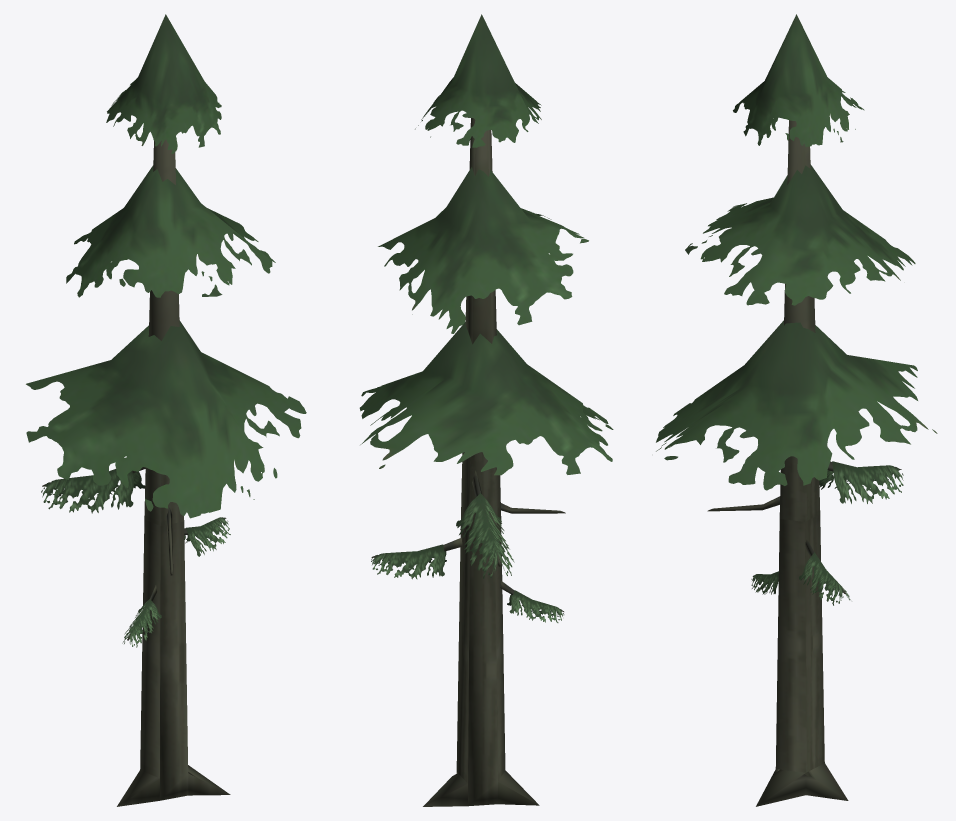
File: Tree L.glb
3 views of the same model, side by side, from view 1: azimuth 30°, elevation 25°; view 2: azimuth 150°, elevation 25°; view 3: azimuth 270°, elevation 25° (orthographic).
Visible parts, largest first — view 1: Branch.002; view 2: Branch.002; view 3: Branch.002.
Boxes of the visible parts, left/top/right/bottom form: Branch.002: left=26, top=14, right=306, bottom=806; Branch.002: left=359, top=14, right=613, bottom=806; Branch.002: left=656, top=14, right=937, bottom=806.
Size of the model in its own units: 8.02 by 22.53 by 7.75.
Materials: 1 (1 with a texture image).
